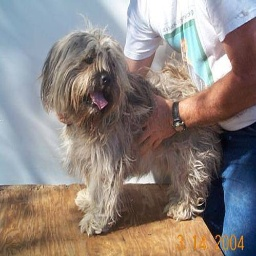dog: (39, 25, 216, 235)
